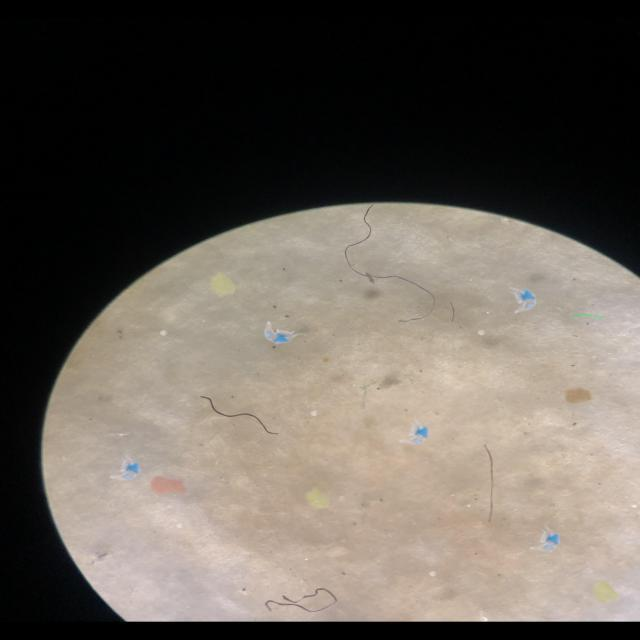fiber: (339, 206, 435, 332), (194, 391, 286, 439), (261, 584, 345, 618), (477, 441, 497, 529)
film: (253, 319, 309, 347), (528, 527, 568, 558), (510, 284, 548, 316), (399, 420, 433, 450), (114, 461, 144, 486)
fragment: (149, 474, 193, 500), (557, 381, 599, 407), (300, 485, 336, 513), (203, 271, 240, 297), (588, 584, 618, 604)
pallet: (427, 565, 445, 582), (174, 520, 192, 535), (306, 409, 324, 421), (159, 327, 175, 339), (476, 328, 488, 338)
